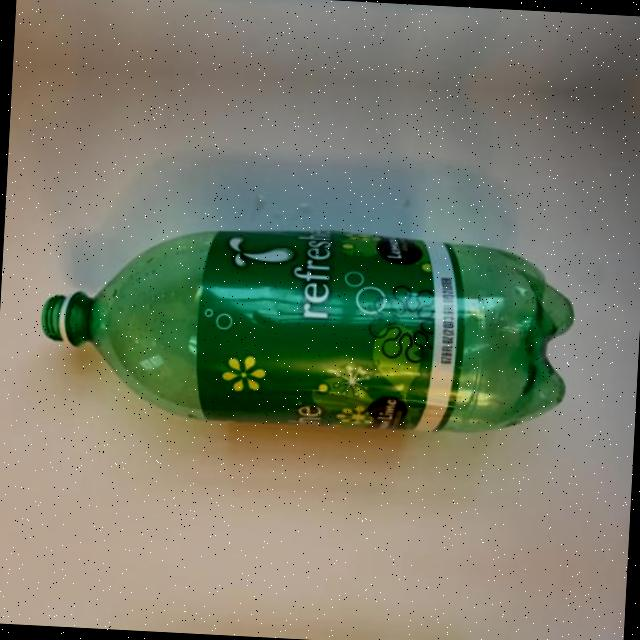Plastic: (36, 225, 601, 470)
